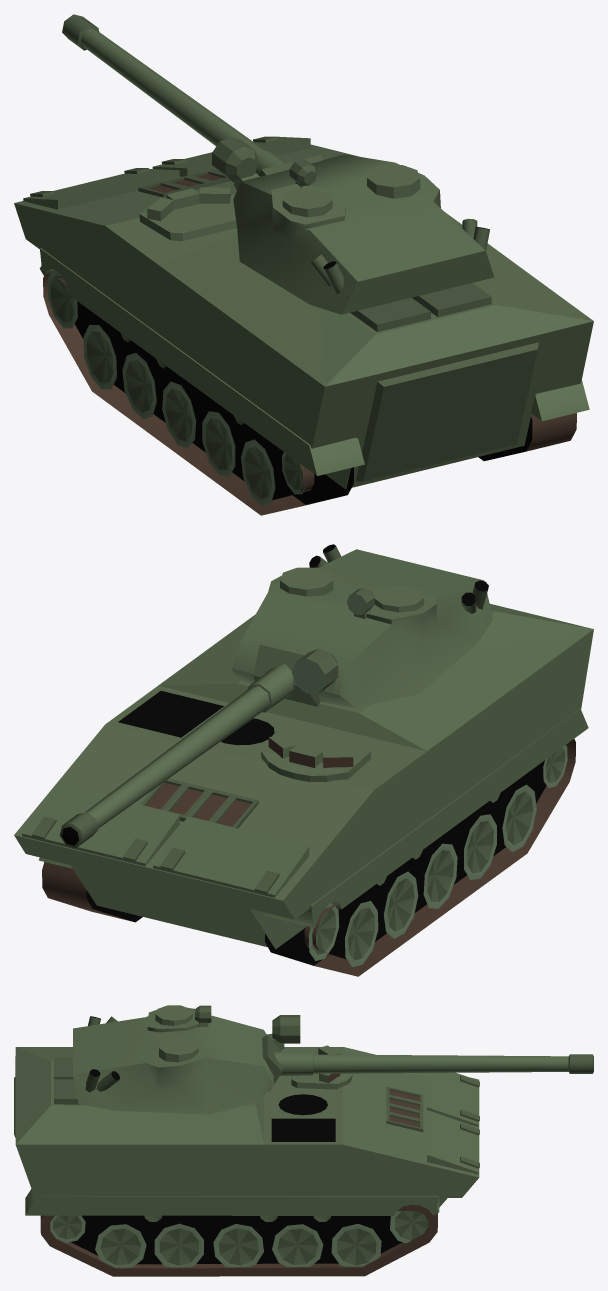
The model's file is amx90.glb.
3 views of the same model, one above another, from view 1: azimuth 30°, elevation 25°; view 2: azimuth 150°, elevation 25°; view 3: azimuth 270°, elevation 25° (orthographic). The views are drawn at different scales.
Parts seen in each view (by area): view 1: hull.002, amx10p_pak90_turret.002, barrel; view 2: hull.002, amx10p_pak90_turret.002, barrel; view 3: hull.002, amx10p_pak90_turret.002, barrel.
Boxes of the visible parts, bbox=[...] form: hull.002: bbox=[14, 136, 593, 515]; amx10p_pak90_turret.002: bbox=[212, 136, 494, 314]; barrel: bbox=[62, 14, 323, 176]; hull.002: bbox=[14, 604, 593, 976]; amx10p_pak90_turret.002: bbox=[232, 544, 492, 707]; barrel: bbox=[59, 644, 320, 847]; hull.002: bbox=[14, 1045, 479, 1276]; amx10p_pak90_turret.002: bbox=[73, 1005, 300, 1114]; barrel: bbox=[262, 1034, 593, 1090].
Bounding box in the file's own units: 0.4046 × 0.4007 × 1.
